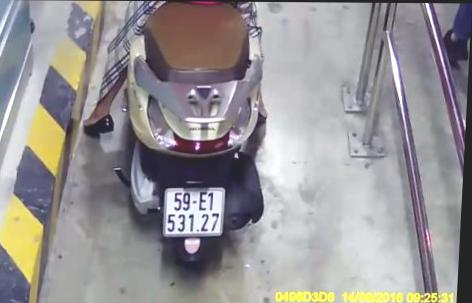License_Plate: (156, 184, 232, 243)
